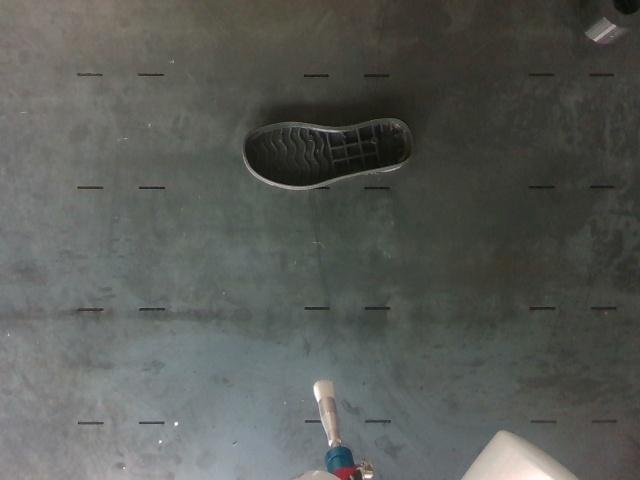shoes: (244, 121, 412, 187)
